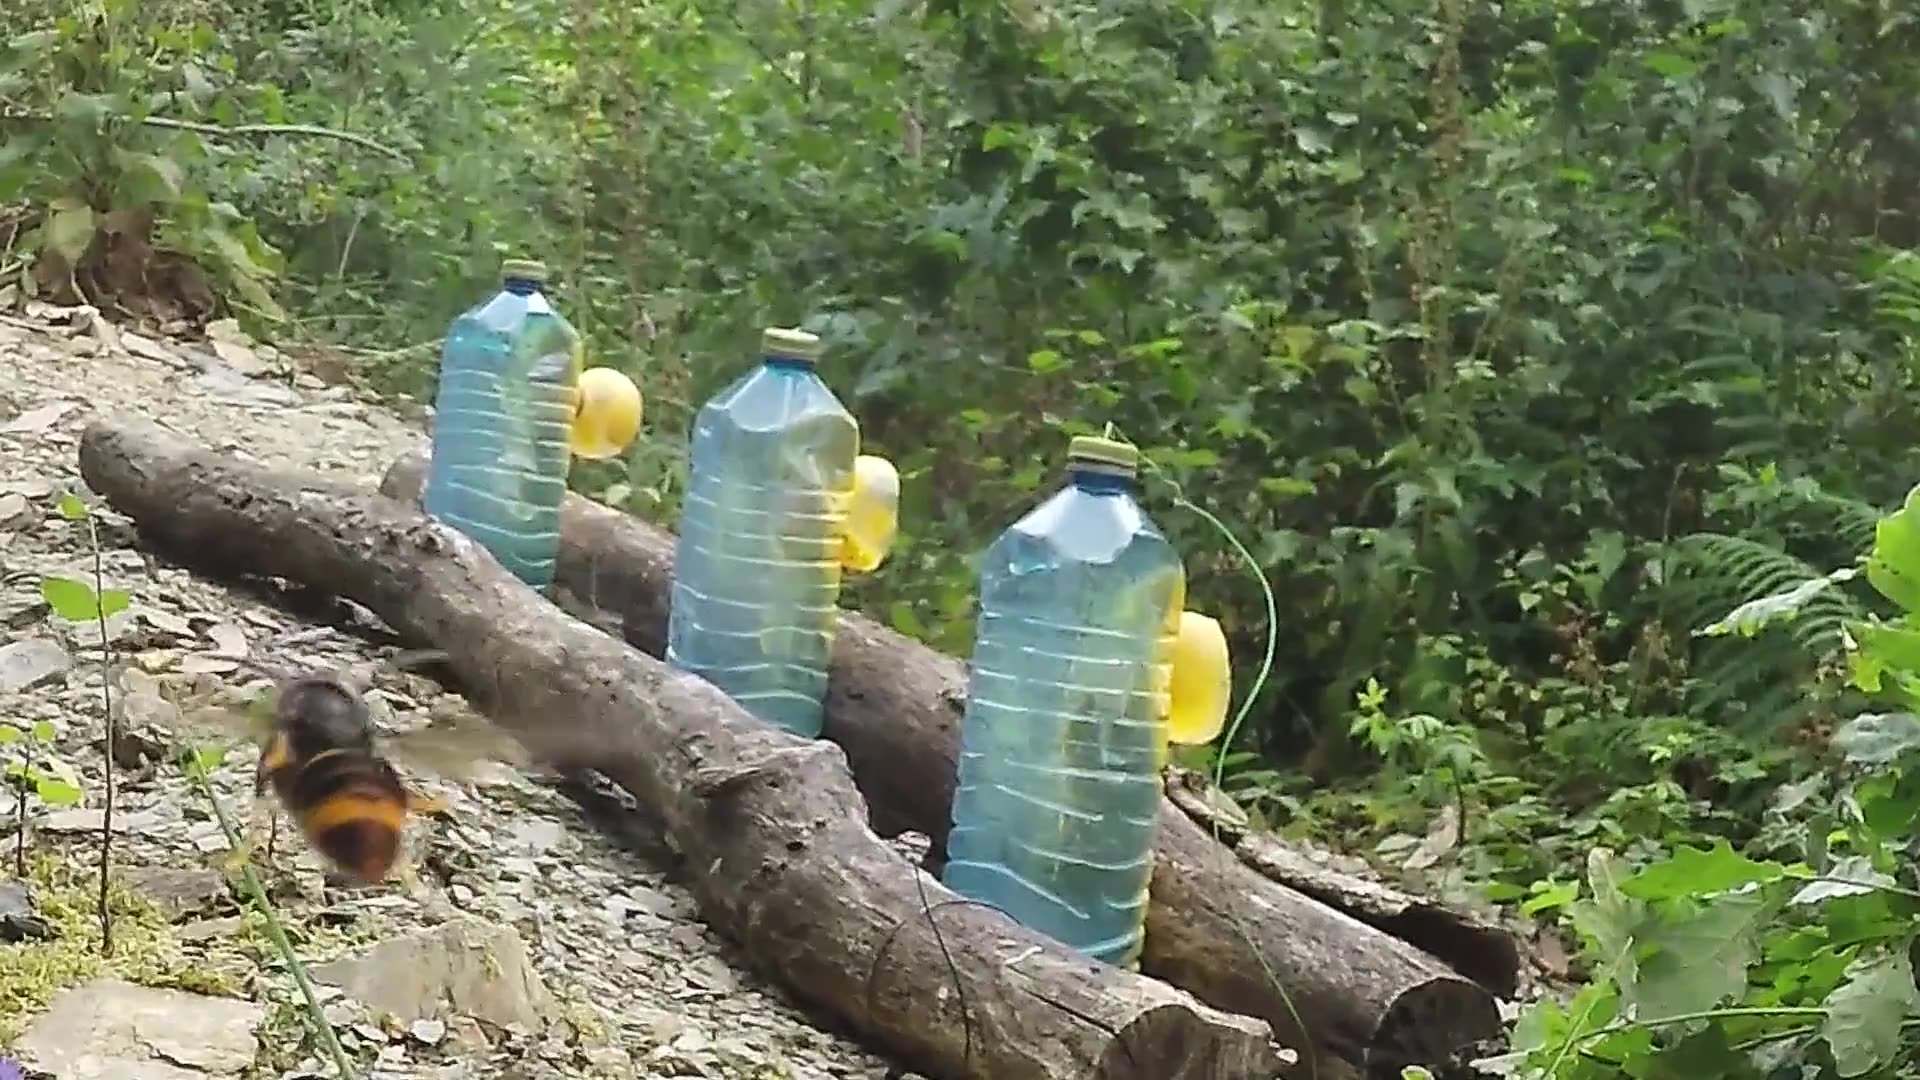hornet: (237, 667, 436, 897)
